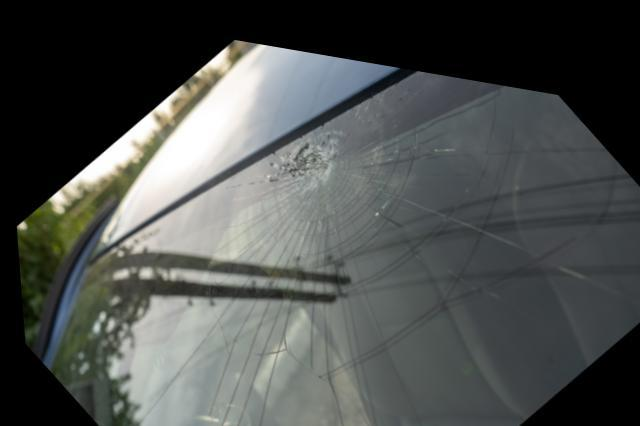glass shatter: (41, 56, 640, 426)
